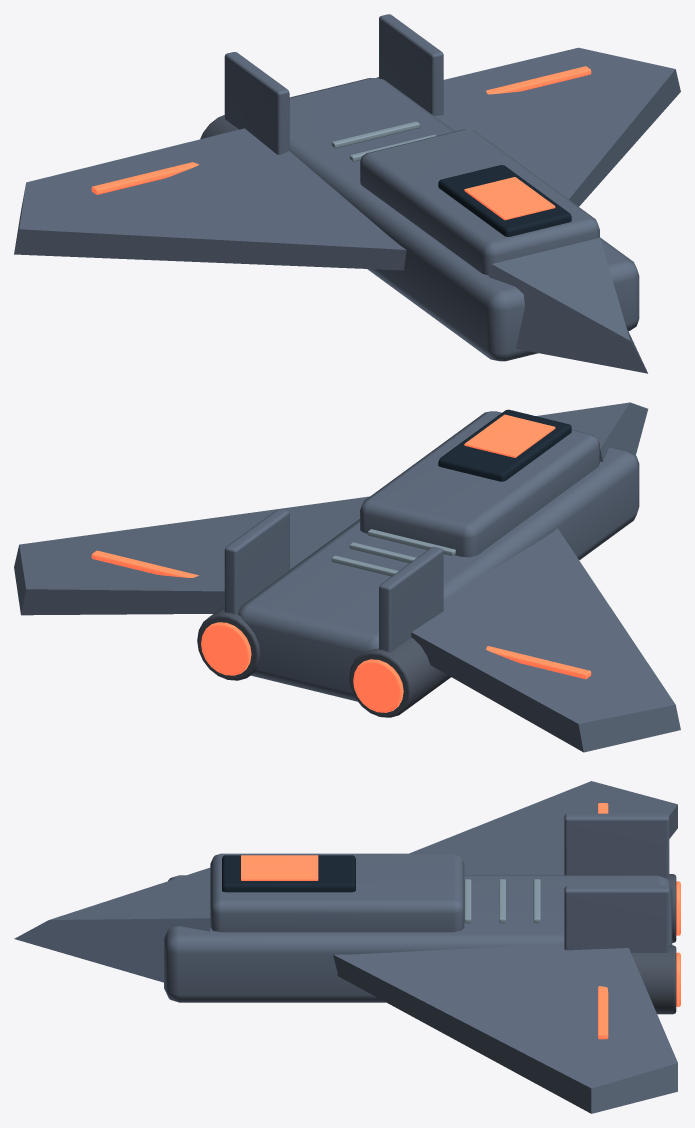
Rendered from carrier.glb.
The picture shows the model from 3 angles, top to bottom: view 1: azimuth 30°, elevation 25°; view 2: azimuth 150°, elevation 25°; view 3: azimuth 270°, elevation 25°; orthographic projection. The views are drawn at different scales.
Visible parts, largest first — view 1: carrier_Mesh; view 2: carrier_Mesh; view 3: carrier_Mesh.
Boxes of the visible parts, <box> form: carrier_Mesh: <box>14,14,680,373</box>; carrier_Mesh: <box>14,402,680,752</box>; carrier_Mesh: <box>14,781,680,1113</box>.
Bounding box in the file's own units: 6.4 × 1.19 × 5.78.
